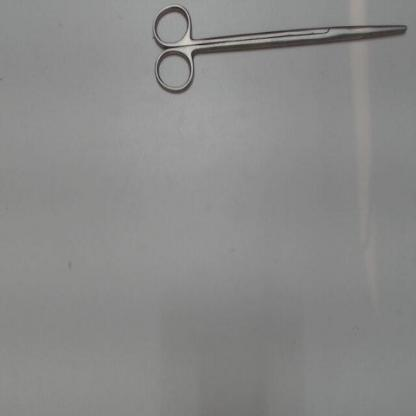9 Metzenbaum Scissors: (150, 3, 412, 99)
